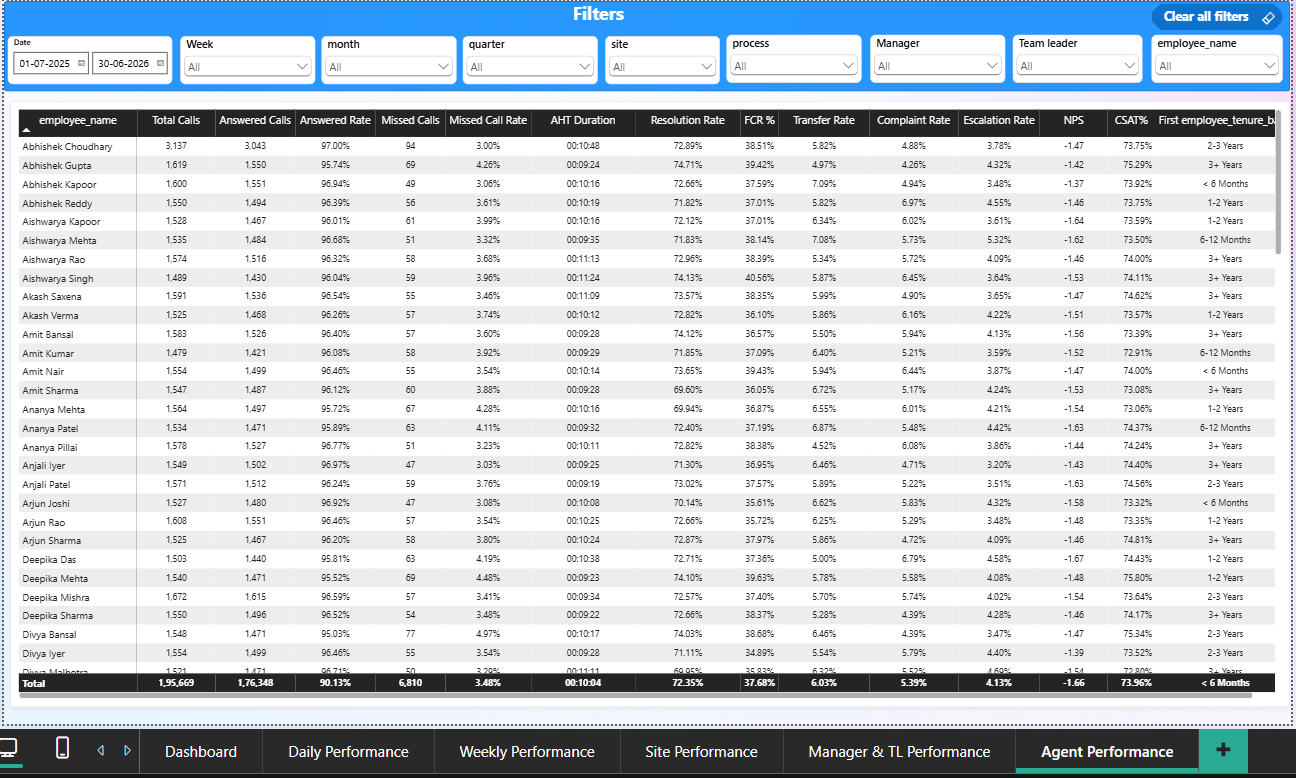

The dashboard page shown, as its layout file describes it:
{"tool":"powerbi","page":{"name":"Agent Performance","canvas":[1920,1080],"ordinal":5},"visuals":[{"type":"shape","box":[0,0,1920,135],"z":0},{"type":"pivotTable","fields":{"Values":["fact_calls.Total Calls","fact_calls.Answered Calls","fact_calls.Answer Rate","fact_calls.Missed Calls","fact_calls.Missed Call Rate","fact_calls.AHT Duration","fact_calls.Resolution Rate","fact_calls.FCR %","fact_calls.Transfer Rate","fact_calls.Complaint Rate","fact_calls.Escalation Rate","fact_calls.NPS"],"Rows":["dim_employee.employee_name"]},"box":[9.5,150.2,1910.5,904.9],"z":1000},{"type":"slicer","fields":{"Values":["calendar.Week"]},"box":[262.3,51.3,201.5,72.2],"z":2000},{"type":"slicer","fields":{"Values":["calendar.Date"]},"box":[5.7,51.3,245.2,72.2],"z":3000},{"type":"slicer","fields":{"Values":["calendar.month_year"]},"box":[473.3,51.3,201.5,72.2],"z":4000},{"type":"slicer","fields":{"Values":["calendar.quarter"]},"box":[684.4,51.3,201.5,72.2],"z":5000},{"type":"slicer","fields":{"Values":["dim_employee.site"]},"box":[897.3,51.3,171.1,72.2],"z":6000},{"type":"slicer","fields":{"Values":["dim_employee.process"]},"box":[1077.9,51.3,201.5,72.2],"z":7000},{"type":"slicer","fields":{"Values":["dim_employee.manager_name"]},"box":[1292.7,51.3,201.5,72.2],"z":8000},{"type":"slicer","fields":{"Values":["dim_employee.team_leader_name"]},"box":[1505.6,51.3,193.9,72.2],"z":9000},{"type":"textbox","box":[849.7,0,127.4,43.7],"z":10000},{"type":"slicer","fields":{"Values":["dim_employee.employee_name"]},"box":[1712.8,51.3,195.8,72.2],"z":11000},{"type":"actionButton","box":[1712.8,3.8,195.8,39.9],"z":12000}]}

Visuals, with their boxes on the page's 1920x1080 design canvas (x1, y1, x2, y2). These are canvas units, not pixel positions in the 1296x778 screenshot, which may show the page scaled, cropped or inside an application window:
shape: BBox(0, 0, 1920, 135)
pivotTable - fact_calls.Total Calls x fact_calls.Answered Calls: BBox(10, 150, 1920, 1055)
slicer - calendar.Week: BBox(262, 51, 464, 124)
slicer - calendar.Date: BBox(6, 51, 251, 124)
slicer - calendar.month_year: BBox(473, 51, 675, 124)
slicer - calendar.quarter: BBox(684, 51, 886, 124)
slicer - dim_employee.site: BBox(897, 51, 1068, 124)
slicer - dim_employee.process: BBox(1078, 51, 1279, 124)
slicer - dim_employee.manager_name: BBox(1293, 51, 1494, 124)
slicer - dim_employee.team_leader_name: BBox(1506, 51, 1700, 124)
textbox: BBox(850, 0, 977, 44)
slicer - dim_employee.employee_name: BBox(1713, 51, 1909, 124)
actionButton: BBox(1713, 4, 1909, 44)
